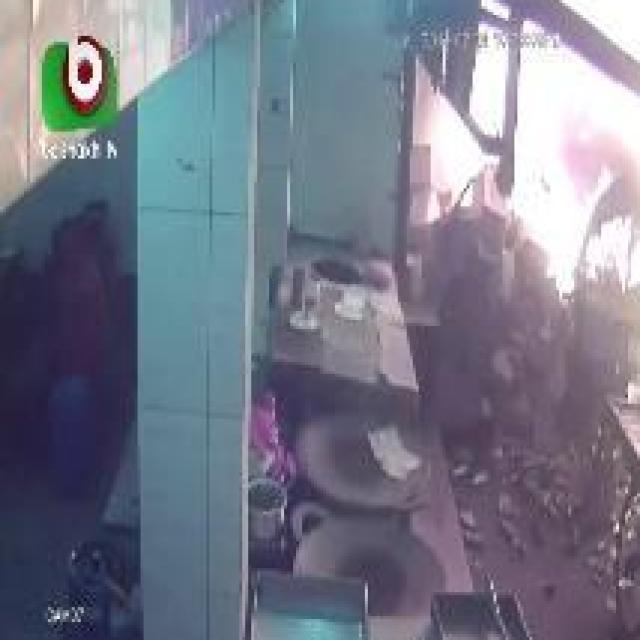smoke: (478, 0, 640, 386), (425, 90, 508, 246)
